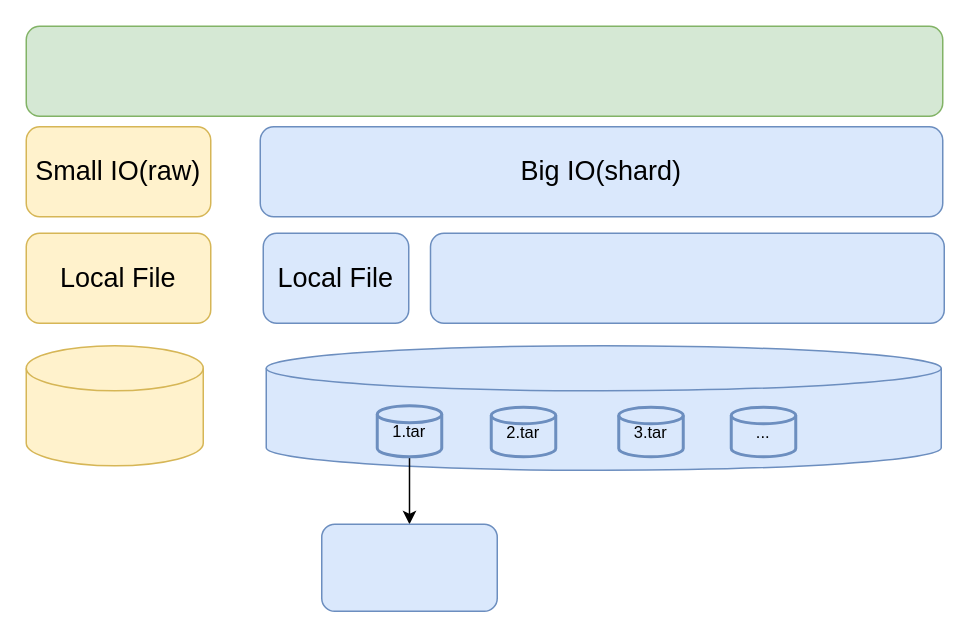
Image size: 971x638. Some labels were removed from this diagram. Here are the shapes that lost their labels. From the top down, the box of each, then its label:
(25, 25, 943, 116): Unified IO System(UIO)
(429, 232, 944, 323): Cloud(S3/OSS/HDFS/...)
(25, 344, 203, 466): wav list file(wav.scp) label file(text)
(320, 523, 497, 611): 1.wav, 1.txt 2.wav, 2.txt 3.wav, 3.txt ......
